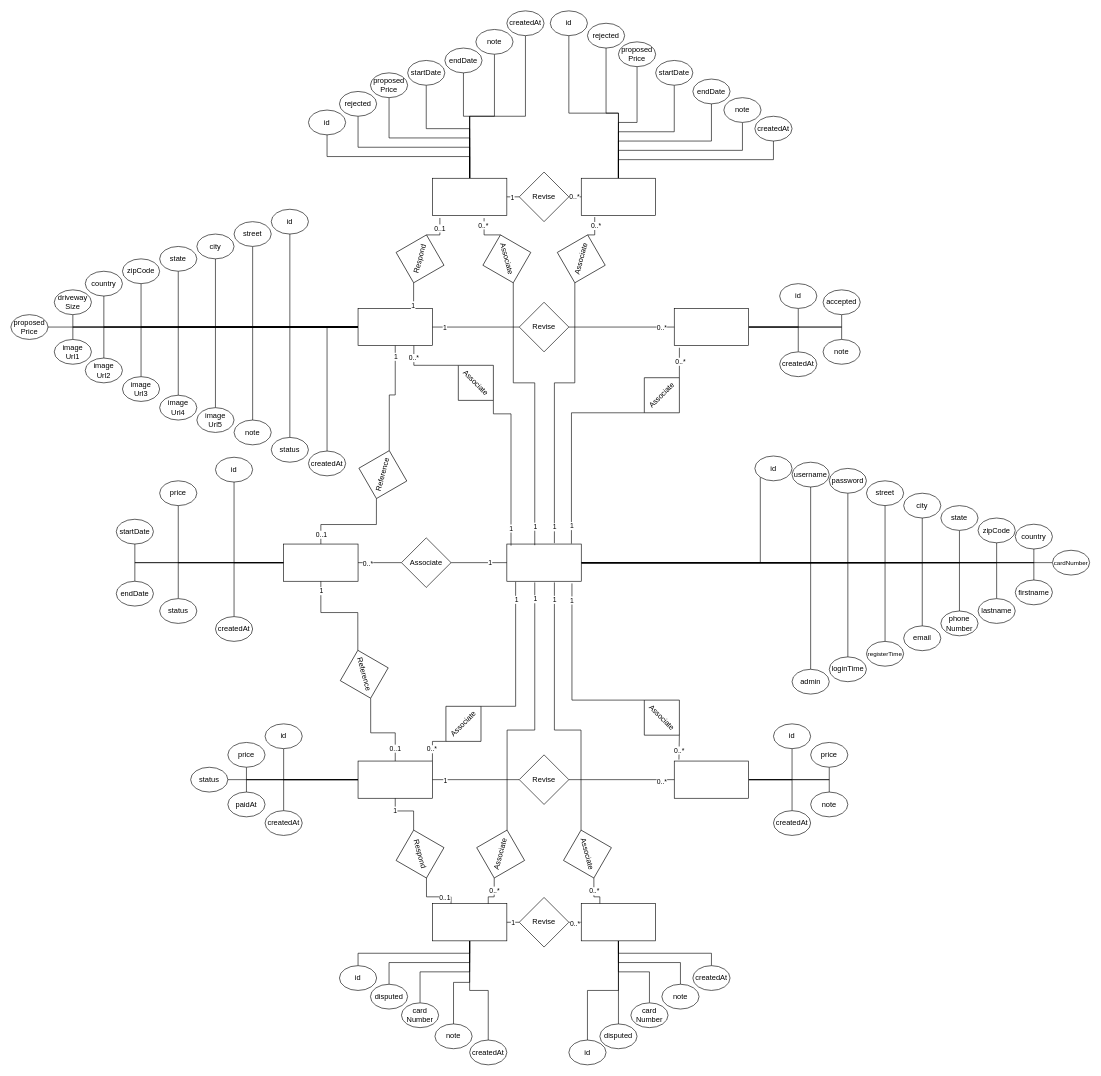
Some shapes in this 1101 by 1076 pixel diagram are drawn without their labels. The shapes that lost their labels are listed below. From the top down, each one's centre as x and y in pixels, then its label:
At point 469,196: "Quote Responses".
At point 618,196: "Quote Response Revisions".
At point 394,327: "Quote Requests".
At point 711,327: "Quote Request Revisions".
At point 320,562: "Work Orders".
At point 543,562: "Users".
At point 394,779: "Bill Requests".
At point 711,779: "Bill Request Revisions".
At point 469,922: "Bill Responses".
At point 618,922: "Bill Response Revisions".
